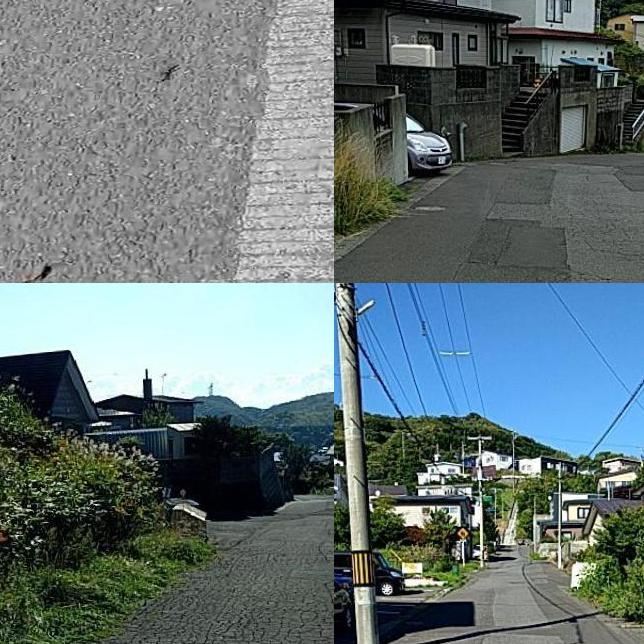Sambungan: (227, 0, 334, 283)
